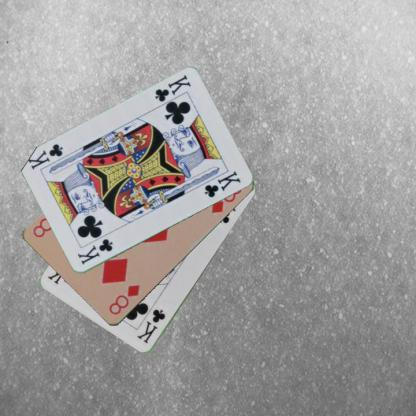8d: (106, 283, 141, 316)
Kc: (152, 72, 192, 104), (134, 307, 167, 345), (74, 236, 114, 266)
